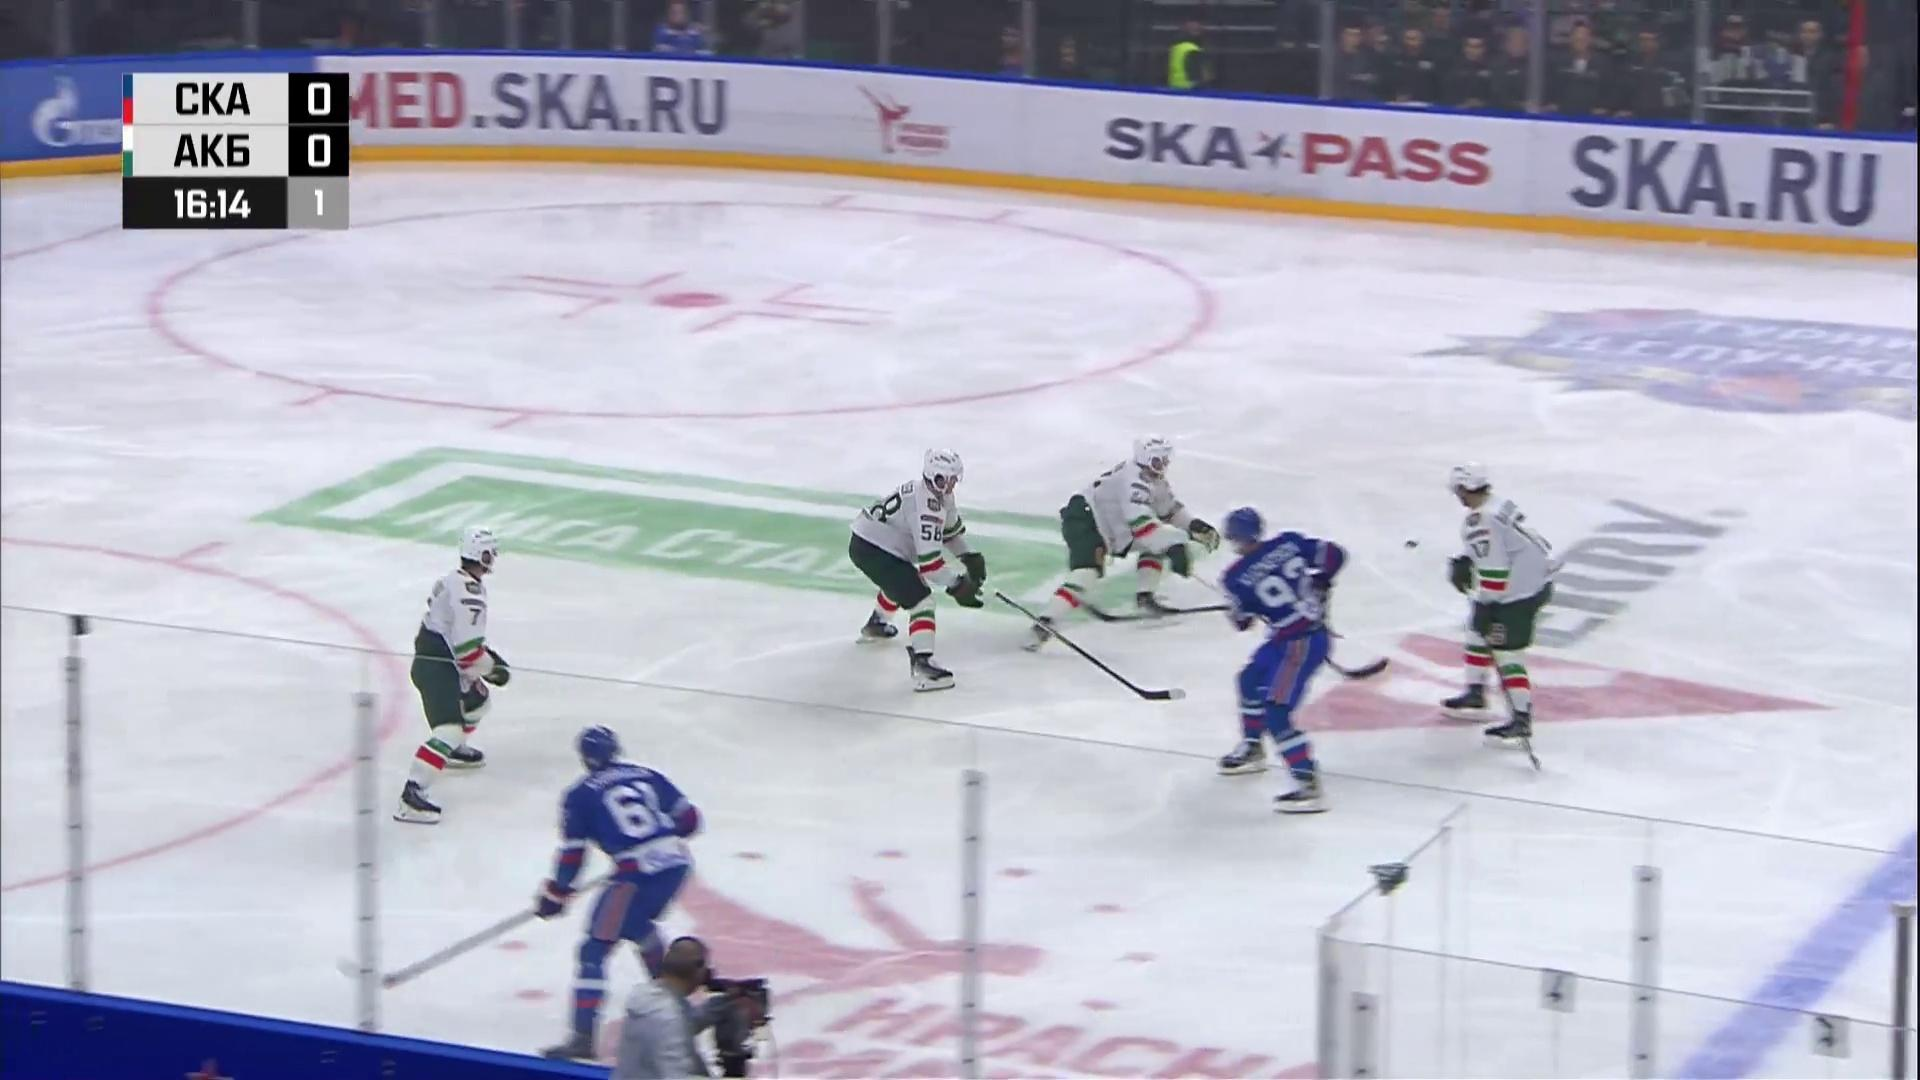ball: (1404, 539, 1419, 549)
